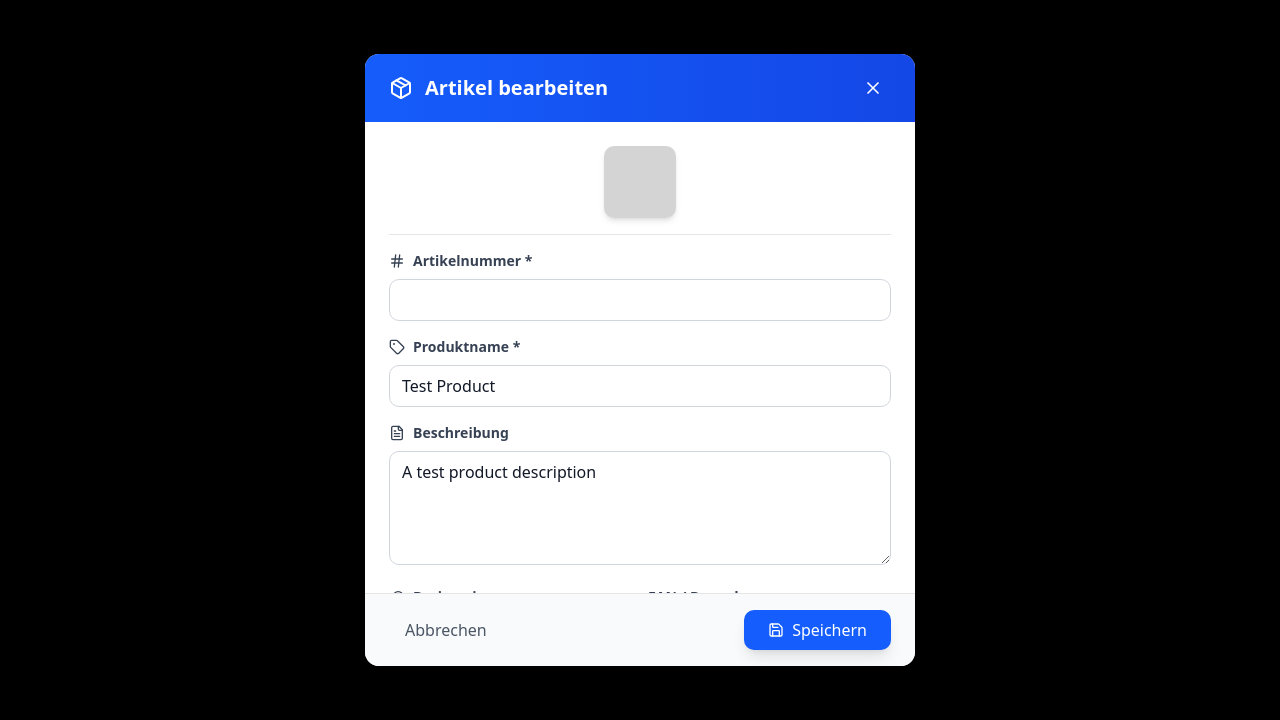
Test: ArticleEditModal › form validation › shows error when article number is empty
Click the button "Speichern" at [818, 630], box [744, 610, 891, 650]
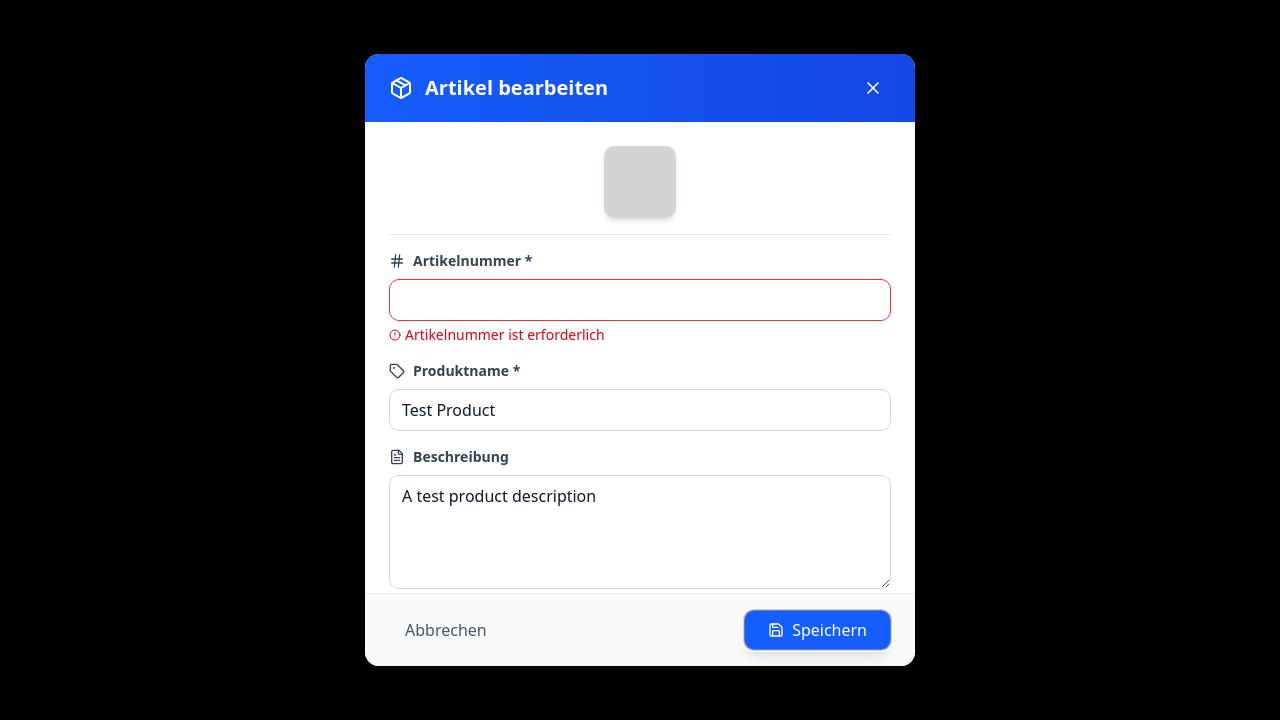
Result: the text "Artikelnummer ist erforderlich" is shown at [389, 325, 604, 344]
